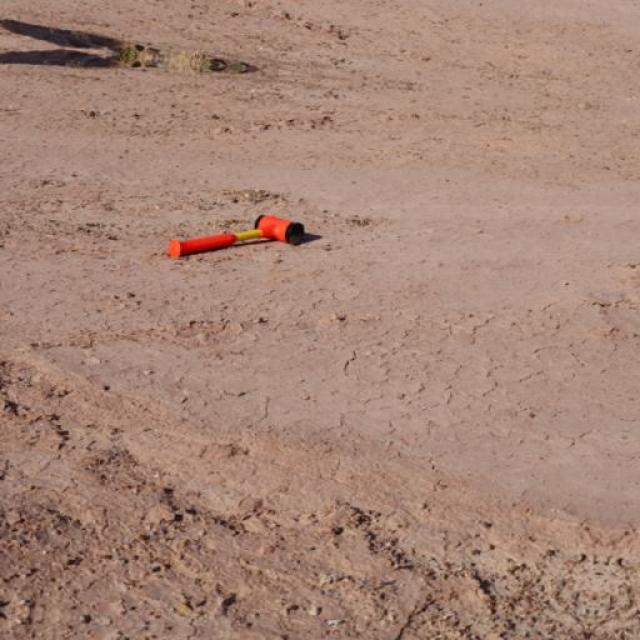mallet: (165, 212, 304, 258)
